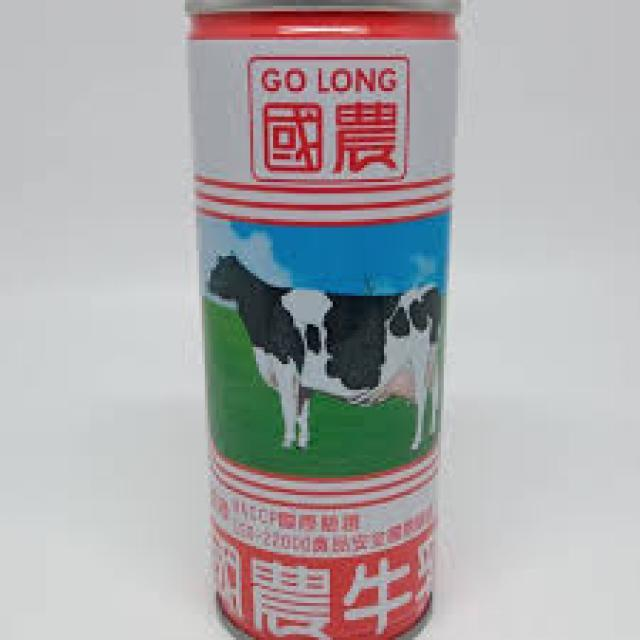recyclable: (188, 0, 462, 640)
